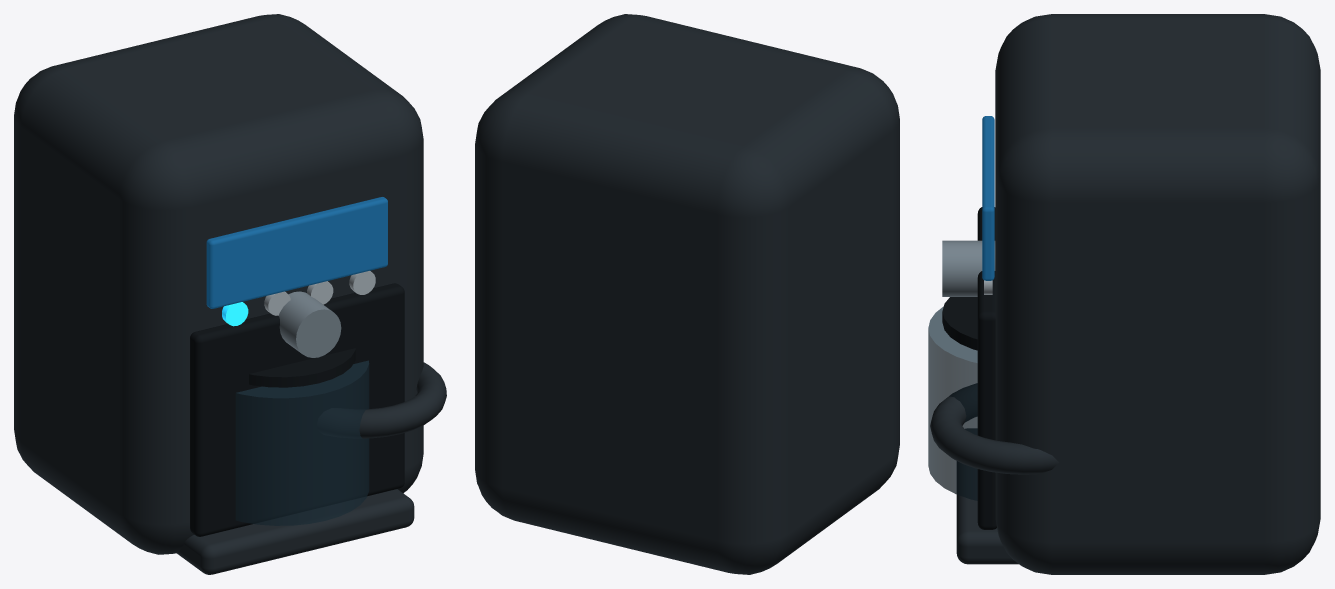
The model's file is office-appliance.glb.
3 renders of one model, left to right at view 1: azimuth 30°, elevation 25°; view 2: azimuth 150°, elevation 25°; view 3: azimuth 270°, elevation 25°, orthographic. The views are drawn at different scales.
Parts seen in each view (by area): view 1: Coffee brewer body, Brewing bay, Coffee carafe, Brewer control display, Drip tray, Premium office coffee brewer, Coffee nozzle, Carafe lid; view 2: Coffee brewer body; view 3: Coffee brewer body, Coffee carafe, Premium office coffee brewer, Brewing bay, Drip tray, Coffee nozzle, Brewer control display, Carafe lid.
Part boxes in pixels (bbox=[...]): Coffee brewer body: bbox=[14, 14, 423, 554]; Brewing bay: bbox=[190, 283, 404, 536]; Coffee carafe: bbox=[235, 360, 369, 525]; Brewer control display: bbox=[206, 197, 387, 308]; Drip tray: bbox=[176, 489, 414, 574]; Premium office coffee brewer: bbox=[317, 362, 446, 438]; Coffee nozzle: bbox=[278, 291, 341, 357]; Carafe lid: bbox=[249, 348, 355, 387]; Coffee brewer body: bbox=[475, 14, 899, 574]; Coffee brewer body: bbox=[995, 14, 1320, 574]; Coffee carafe: bbox=[928, 306, 977, 500]; Premium office coffee brewer: bbox=[930, 383, 1059, 474]; Brewing bay: bbox=[977, 207, 996, 529]; Drip tray: bbox=[956, 428, 1018, 564]; Coffee nozzle: bbox=[942, 240, 995, 296]; Brewer control display: bbox=[982, 116, 994, 280]; Carafe lid: bbox=[942, 297, 977, 350].
Bounding box in the file's own units: 1.07 × 1.38 × 1.11.
